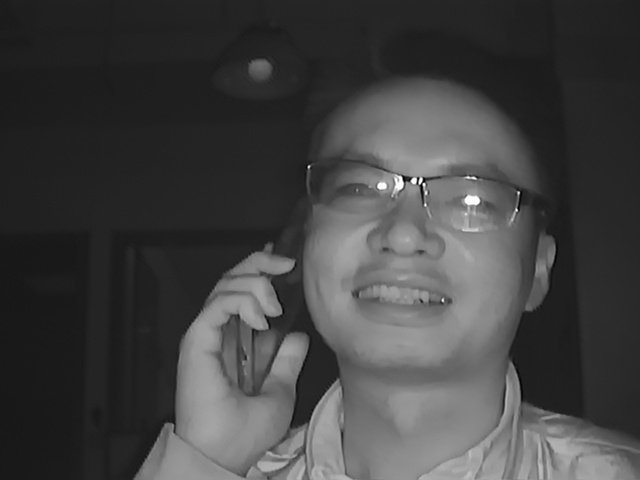hand: (174, 252, 309, 451)
